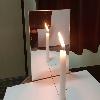fire: (58, 32, 66, 53)
